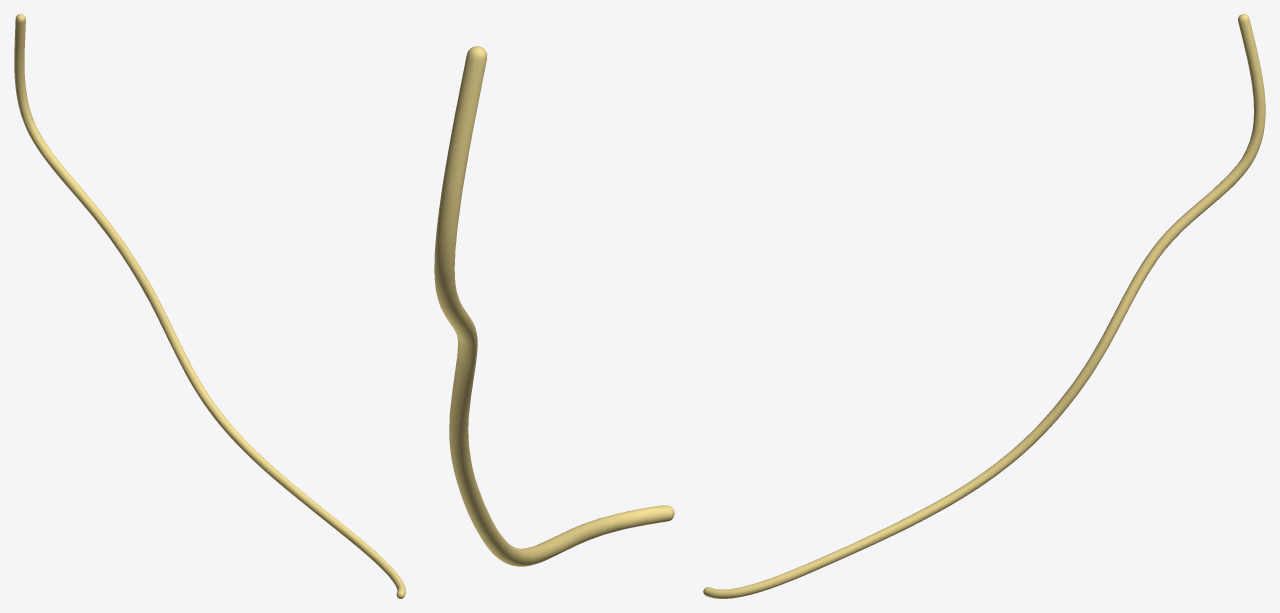
File: fma80518_fj3903.glb
The picture shows the model from 3 angles, left to right: view 1: azimuth 30°, elevation 25°; view 2: azimuth 150°, elevation 25°; view 3: azimuth 270°, elevation 25°; orthographic projection. The views are drawn at different scales.
Parts seen in each view (by area): view 1: FMA80518_FJ3903; view 2: FMA80518_FJ3903; view 3: FMA80518_FJ3903.
Part boxes in pixels (box(x1,y1,x2,y2)): FMA80518_FJ3903: box(14, 14, 405, 598); FMA80518_FJ3903: box(434, 46, 674, 566); FMA80518_FJ3903: box(703, 14, 1265, 598).
Bounding box in the file's own units: 0.0174 × 0.0464 × 0.047.
